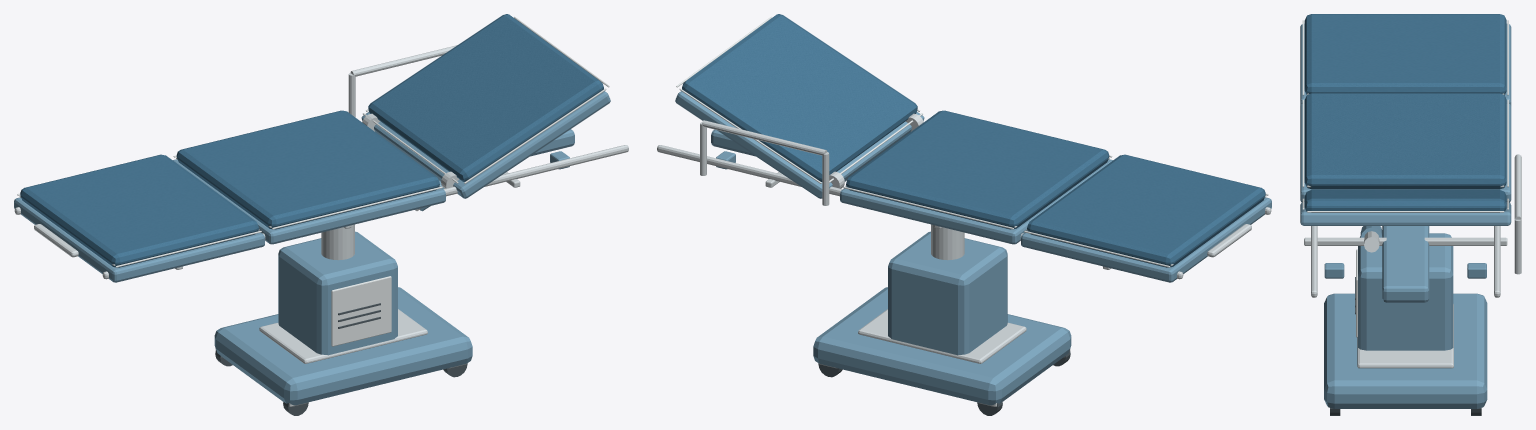
Rendered from SurgicalTable.glb.
3 views of the same model, side by side, from view 1: azimuth 30°, elevation 25°; view 2: azimuth 150°, elevation 25°; view 3: azimuth 270°, elevation 25° (orthographic). The views are drawn at different scales.
Visible parts, largest first — view 1: SurgicalTable_vinyl_01, SurgicalTable_frame_01, SurgicalTable_metal_01, SurgicalTable_white_01, SurgicalTable_rubber_01; view 2: SurgicalTable_vinyl_01, SurgicalTable_frame_01, SurgicalTable_metal_01, SurgicalTable_white_01; view 3: SurgicalTable_vinyl_01, SurgicalTable_frame_01, SurgicalTable_metal_01, SurgicalTable_white_01.
Part boxes in pixels (x1,y1,x2,y2): SurgicalTable_vinyl_01: (20, 14, 603, 267); SurgicalTable_frame_01: (14, 91, 610, 405); SurgicalTable_metal_01: (14, 45, 628, 406); SurgicalTable_white_01: (17, 16, 609, 346); SurgicalTable_rubber_01: (215, 303, 467, 415); SurgicalTable_vinyl_01: (682, 14, 1265, 267); SurgicalTable_frame_01: (675, 91, 1271, 405); SurgicalTable_metal_01: (657, 113, 1271, 406); SurgicalTable_white_01: (676, 16, 1268, 267); SurgicalTable_vinyl_01: (1304, 14, 1506, 212); SurgicalTable_frame_01: (1300, 24, 1511, 408); SurgicalTable_metal_01: (1304, 154, 1521, 407); SurgicalTable_white_01: (1302, 20, 1508, 337).
Size of the model in its own units: 9.77 by 4.75 by 3.39.
Materials: 5 (1 with a texture image).
